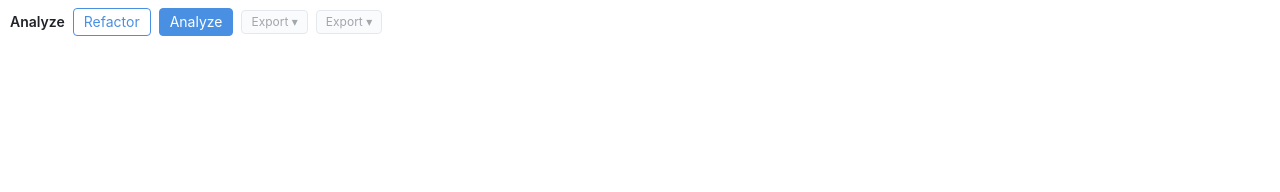
Test: AnalyzePane: actions › a degraded stream refetches and keeps the degraded box
Click the button with test id "analyze-run" at (196, 22), box [159,8,234,36]
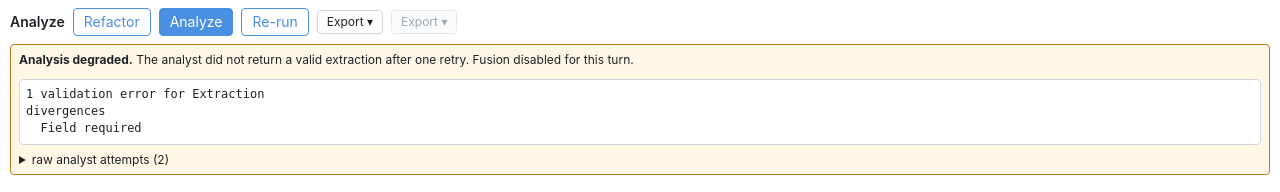
expect the element with test id "analyze-degraded" is shown: met
expect the text "Fusion disabled for this turn." is shown: met, box [473,52,634,67]
